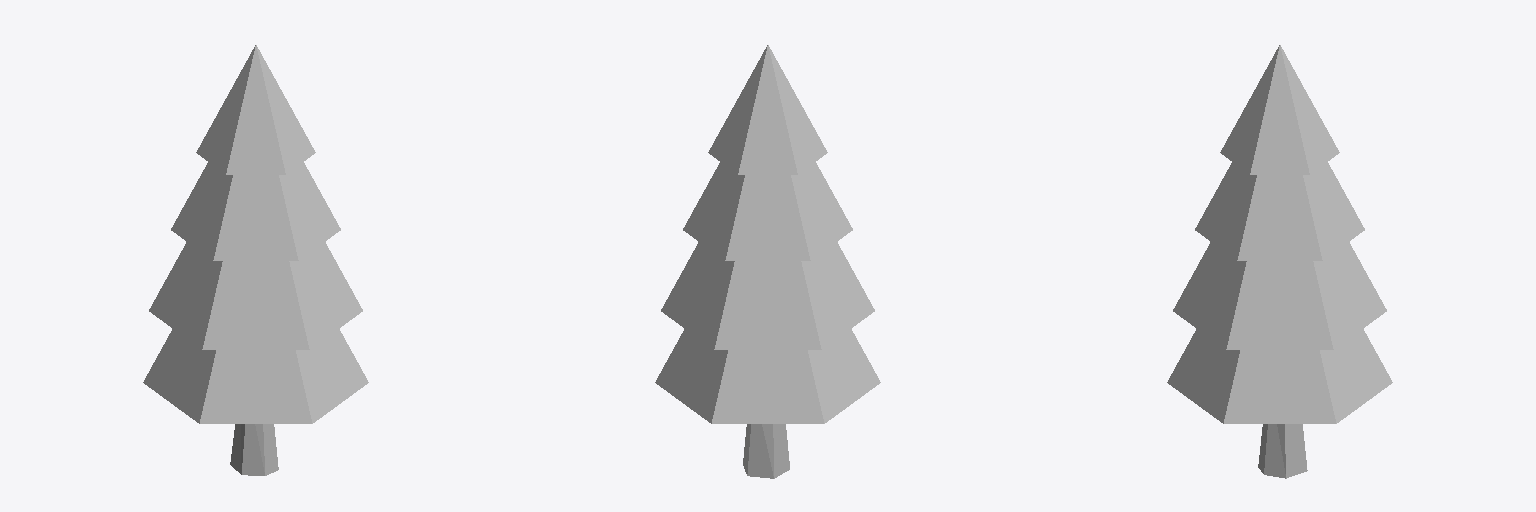
File: Pine.obj
The picture shows the model from 3 angles: view 1: azimuth 30°, elevation 25°; view 2: azimuth 150°, elevation 25°; view 3: azimuth 270°, elevation 25°; orthographic projection.
Visible parts, largest first — view 1: Tree_Cylinder; view 2: Tree_Cylinder; view 3: Tree_Cylinder.
Part boxes in pixels (bbox=[...]): Tree_Cylinder: bbox=[143, 45, 368, 475]; Tree_Cylinder: bbox=[655, 45, 880, 478]; Tree_Cylinder: bbox=[1167, 45, 1392, 478].
Bounding box in the file's own units: 3.27 × 7.79 × 3.77.